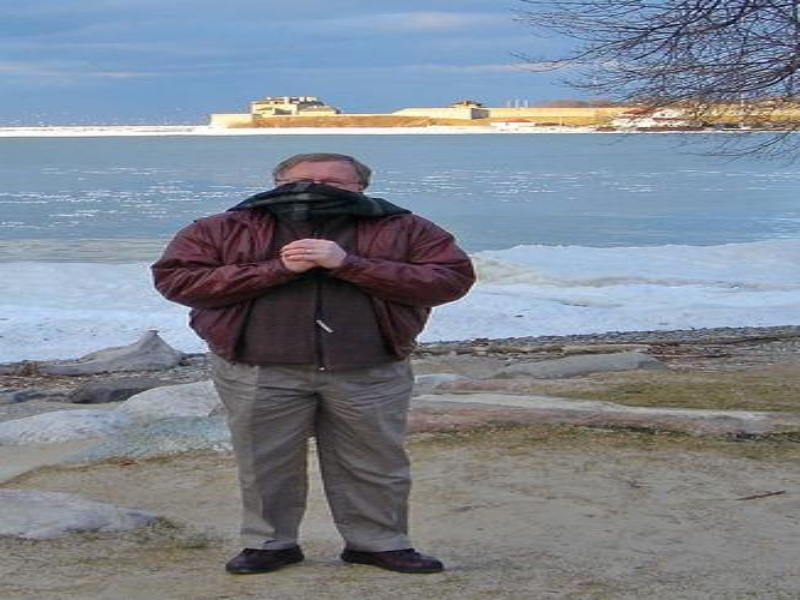hands: (272, 238, 347, 275)
